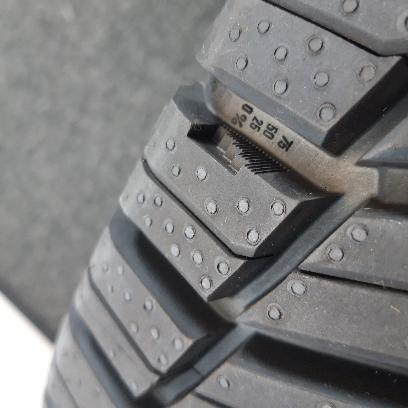temoin:100: (185, 122, 291, 180)
